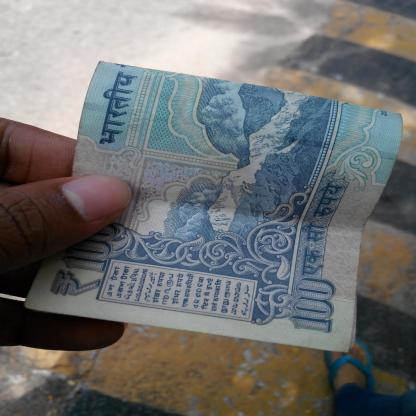Old100Back: (22, 60, 405, 356)
